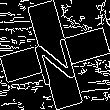N_N: (29, 26, 81, 84)
